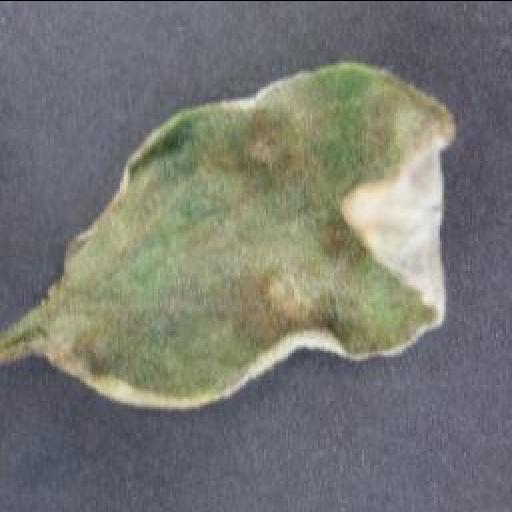disease_tomato: (36, 60, 462, 414)
